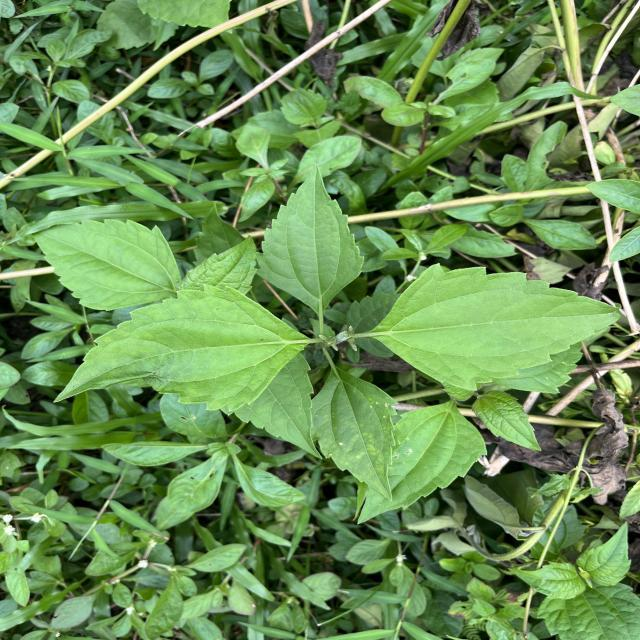Chromolaena odorata: (49, 282, 318, 416), (367, 261, 626, 394), (252, 161, 366, 322), (302, 352, 400, 504)
